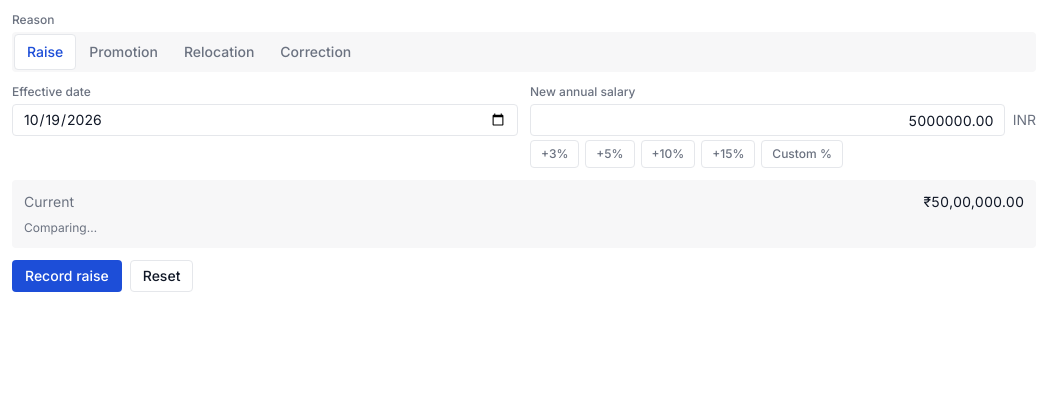
Test: SalaryChangeForm › lists only levels above the current one for a promotion and requires a choice
The image size is (1048, 393).
Click the radio button labelled "Promotion" at (124, 52), box 76,34 -> 171,70
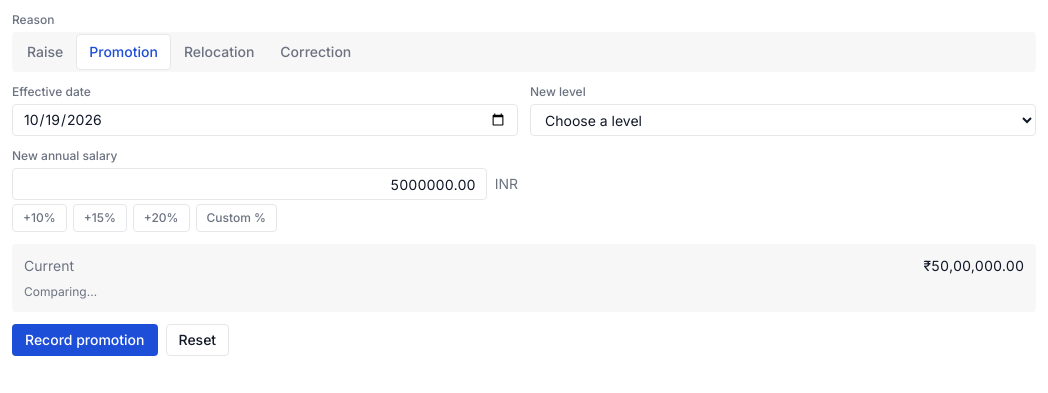
Replace the text in the field labelled "New annual salary" with "6000000" at (249, 184), box 12,168 -> 487,200
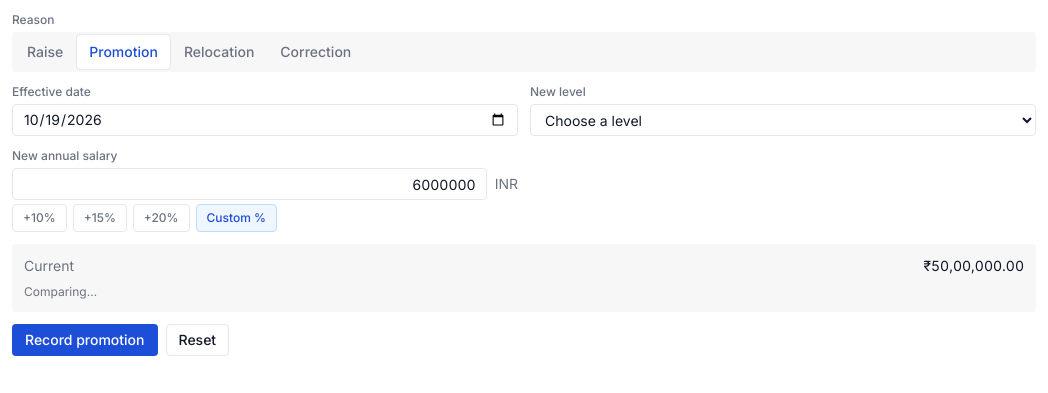
Click the button "Record promotion" at (85, 340), box 12,324 -> 158,356
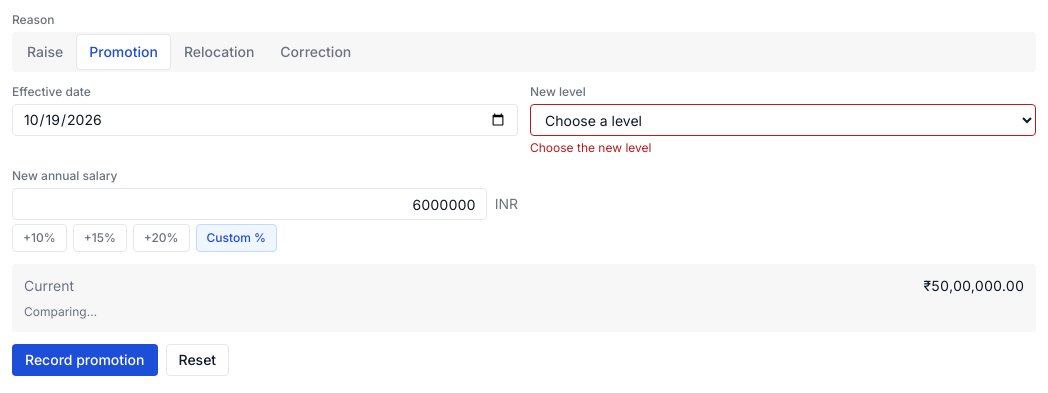
expect the text "Choose the new level" is shown: met, box 530,140 -> 652,155
